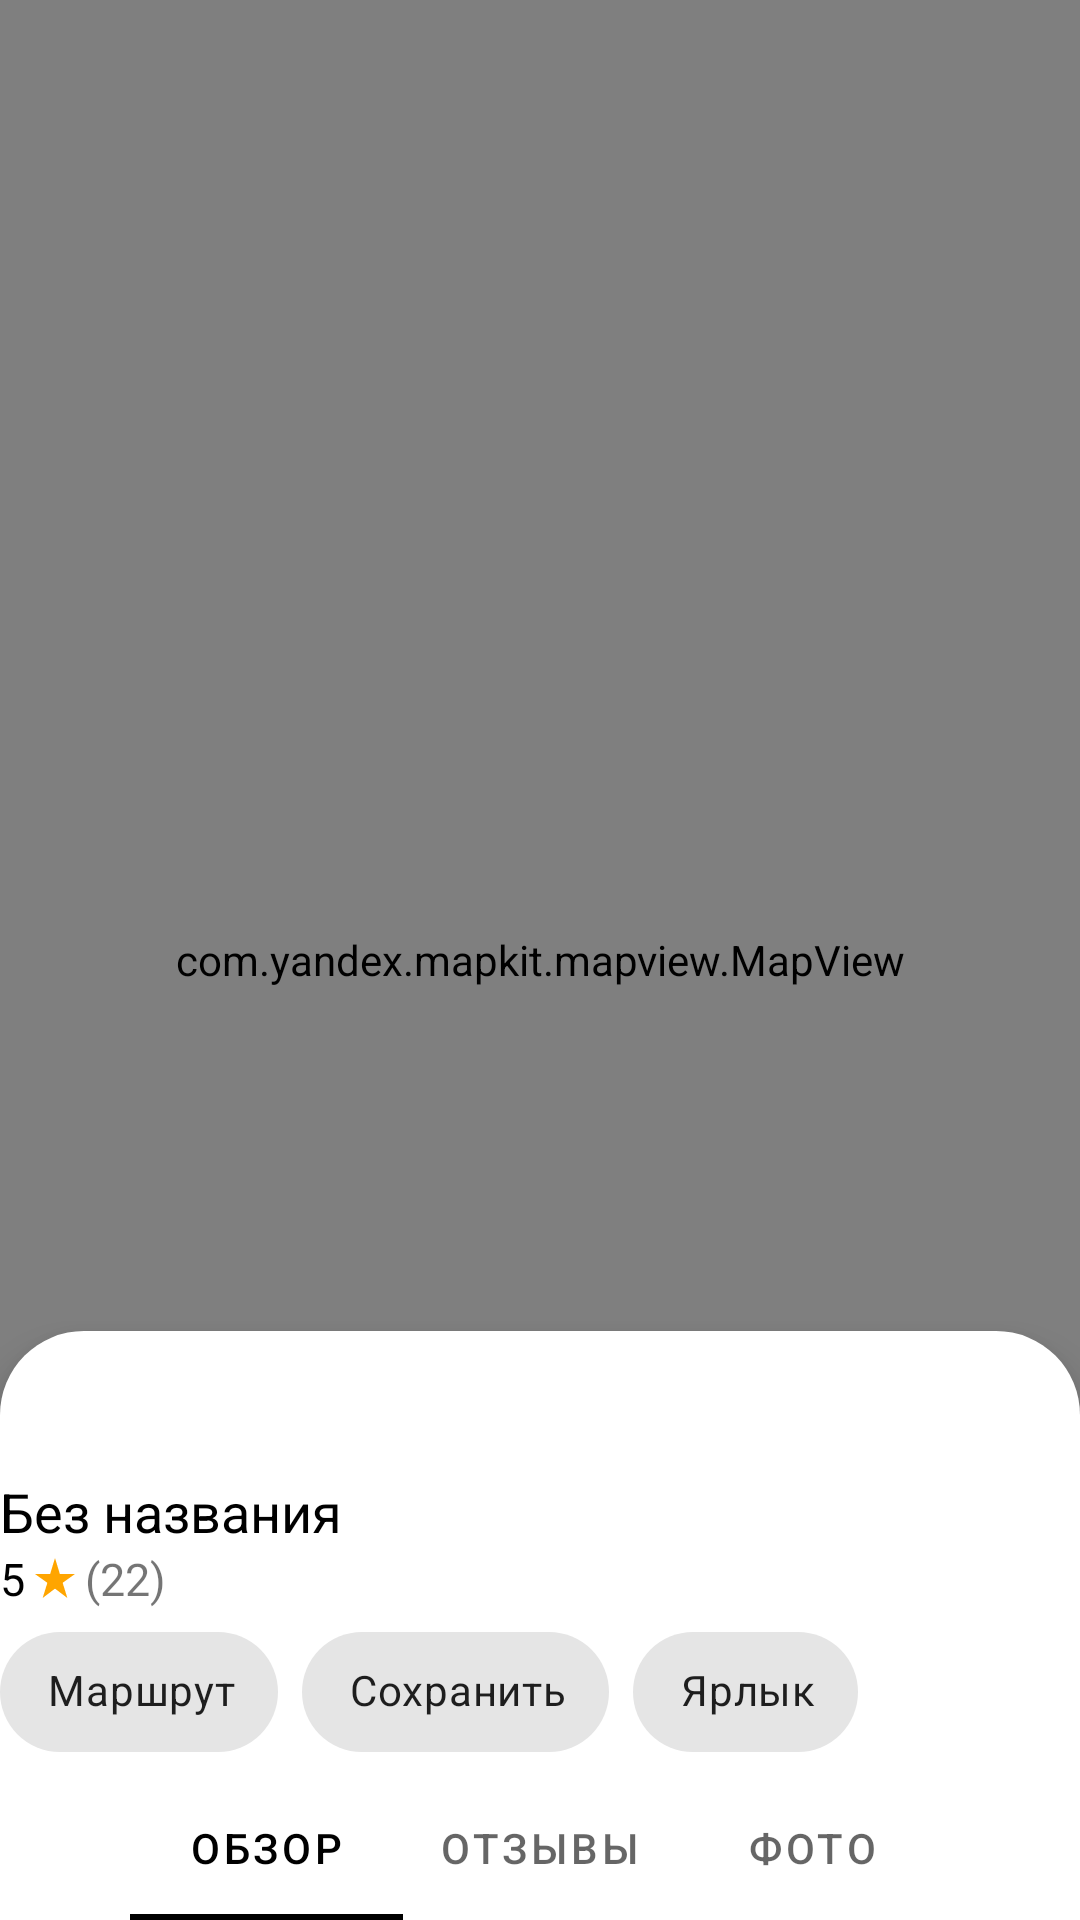

Where to tap for icons on this 1080 x 1920 app screen, as [x,y]:
Изображение звезды рейтинга: [55,1578]
